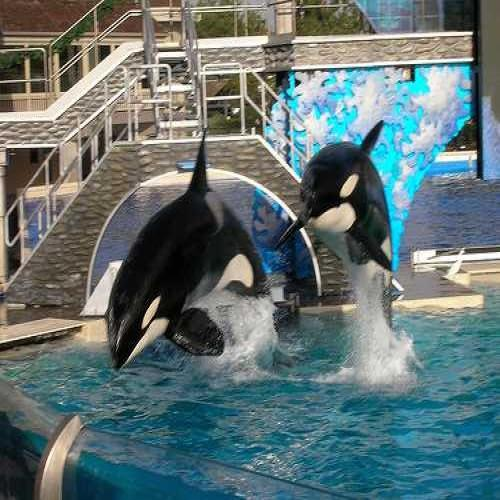killer_whale-endangered: (96, 166, 274, 369), (289, 117, 414, 294)
